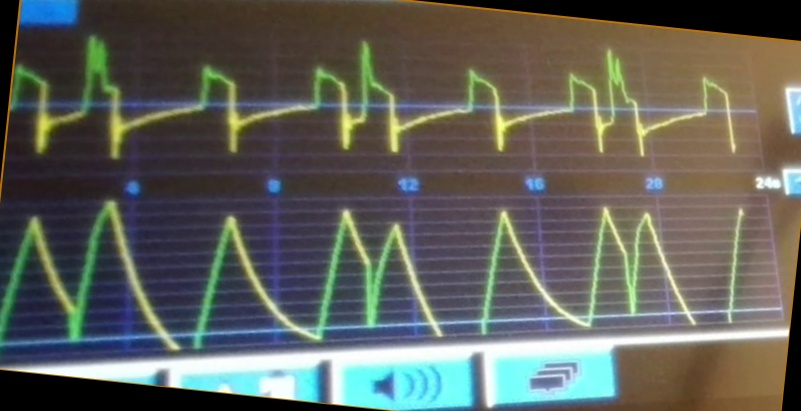Double_Triggering Flow: (74, 34, 648, 166)
Double_Triggering Volume: (36, 198, 694, 340)
